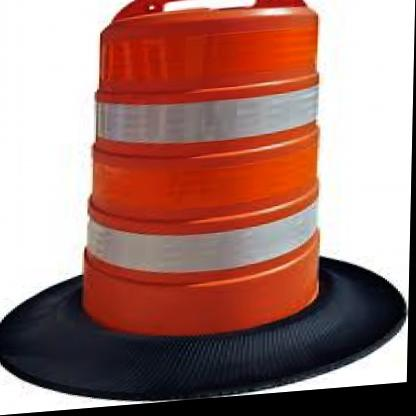obstacle: (80, 0, 326, 349)
